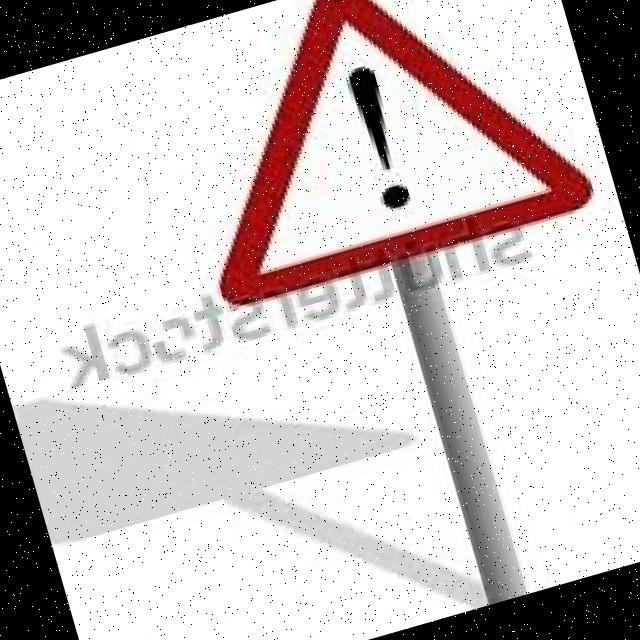warning: (148, 0, 605, 315)
